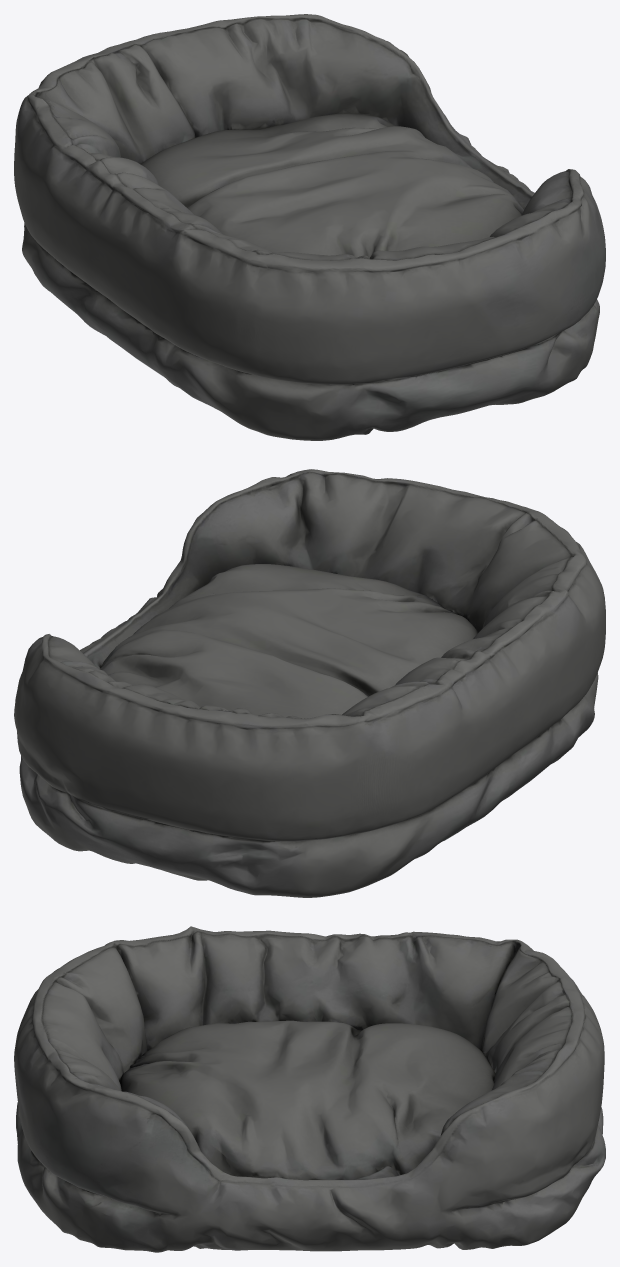
Rendered from pet-bed-generic.glb.
The picture shows the model from 3 angles, top to bottom: view 1: azimuth 30°, elevation 25°; view 2: azimuth 150°, elevation 25°; view 3: azimuth 270°, elevation 25°; orthographic projection. The views are drawn at different scales.
Visible parts, largest first — view 1: tripo_node_b8ff97b0-fe15-46bc-929e-a66869dc62a4; view 2: tripo_node_b8ff97b0-fe15-46bc-929e-a66869dc62a4; view 3: tripo_node_b8ff97b0-fe15-46bc-929e-a66869dc62a4.
Part boxes in pixels (x1,y1,x2,y2): tripo_node_b8ff97b0-fe15-46bc-929e-a66869dc62a4: [14, 14, 605, 440]; tripo_node_b8ff97b0-fe15-46bc-929e-a66869dc62a4: [14, 469, 605, 897]; tripo_node_b8ff97b0-fe15-46bc-929e-a66869dc62a4: [14, 926, 605, 1252].
Size of the model in its own units: 0.6266 by 0.25 by 0.8113.
1 material, 1 textured.
